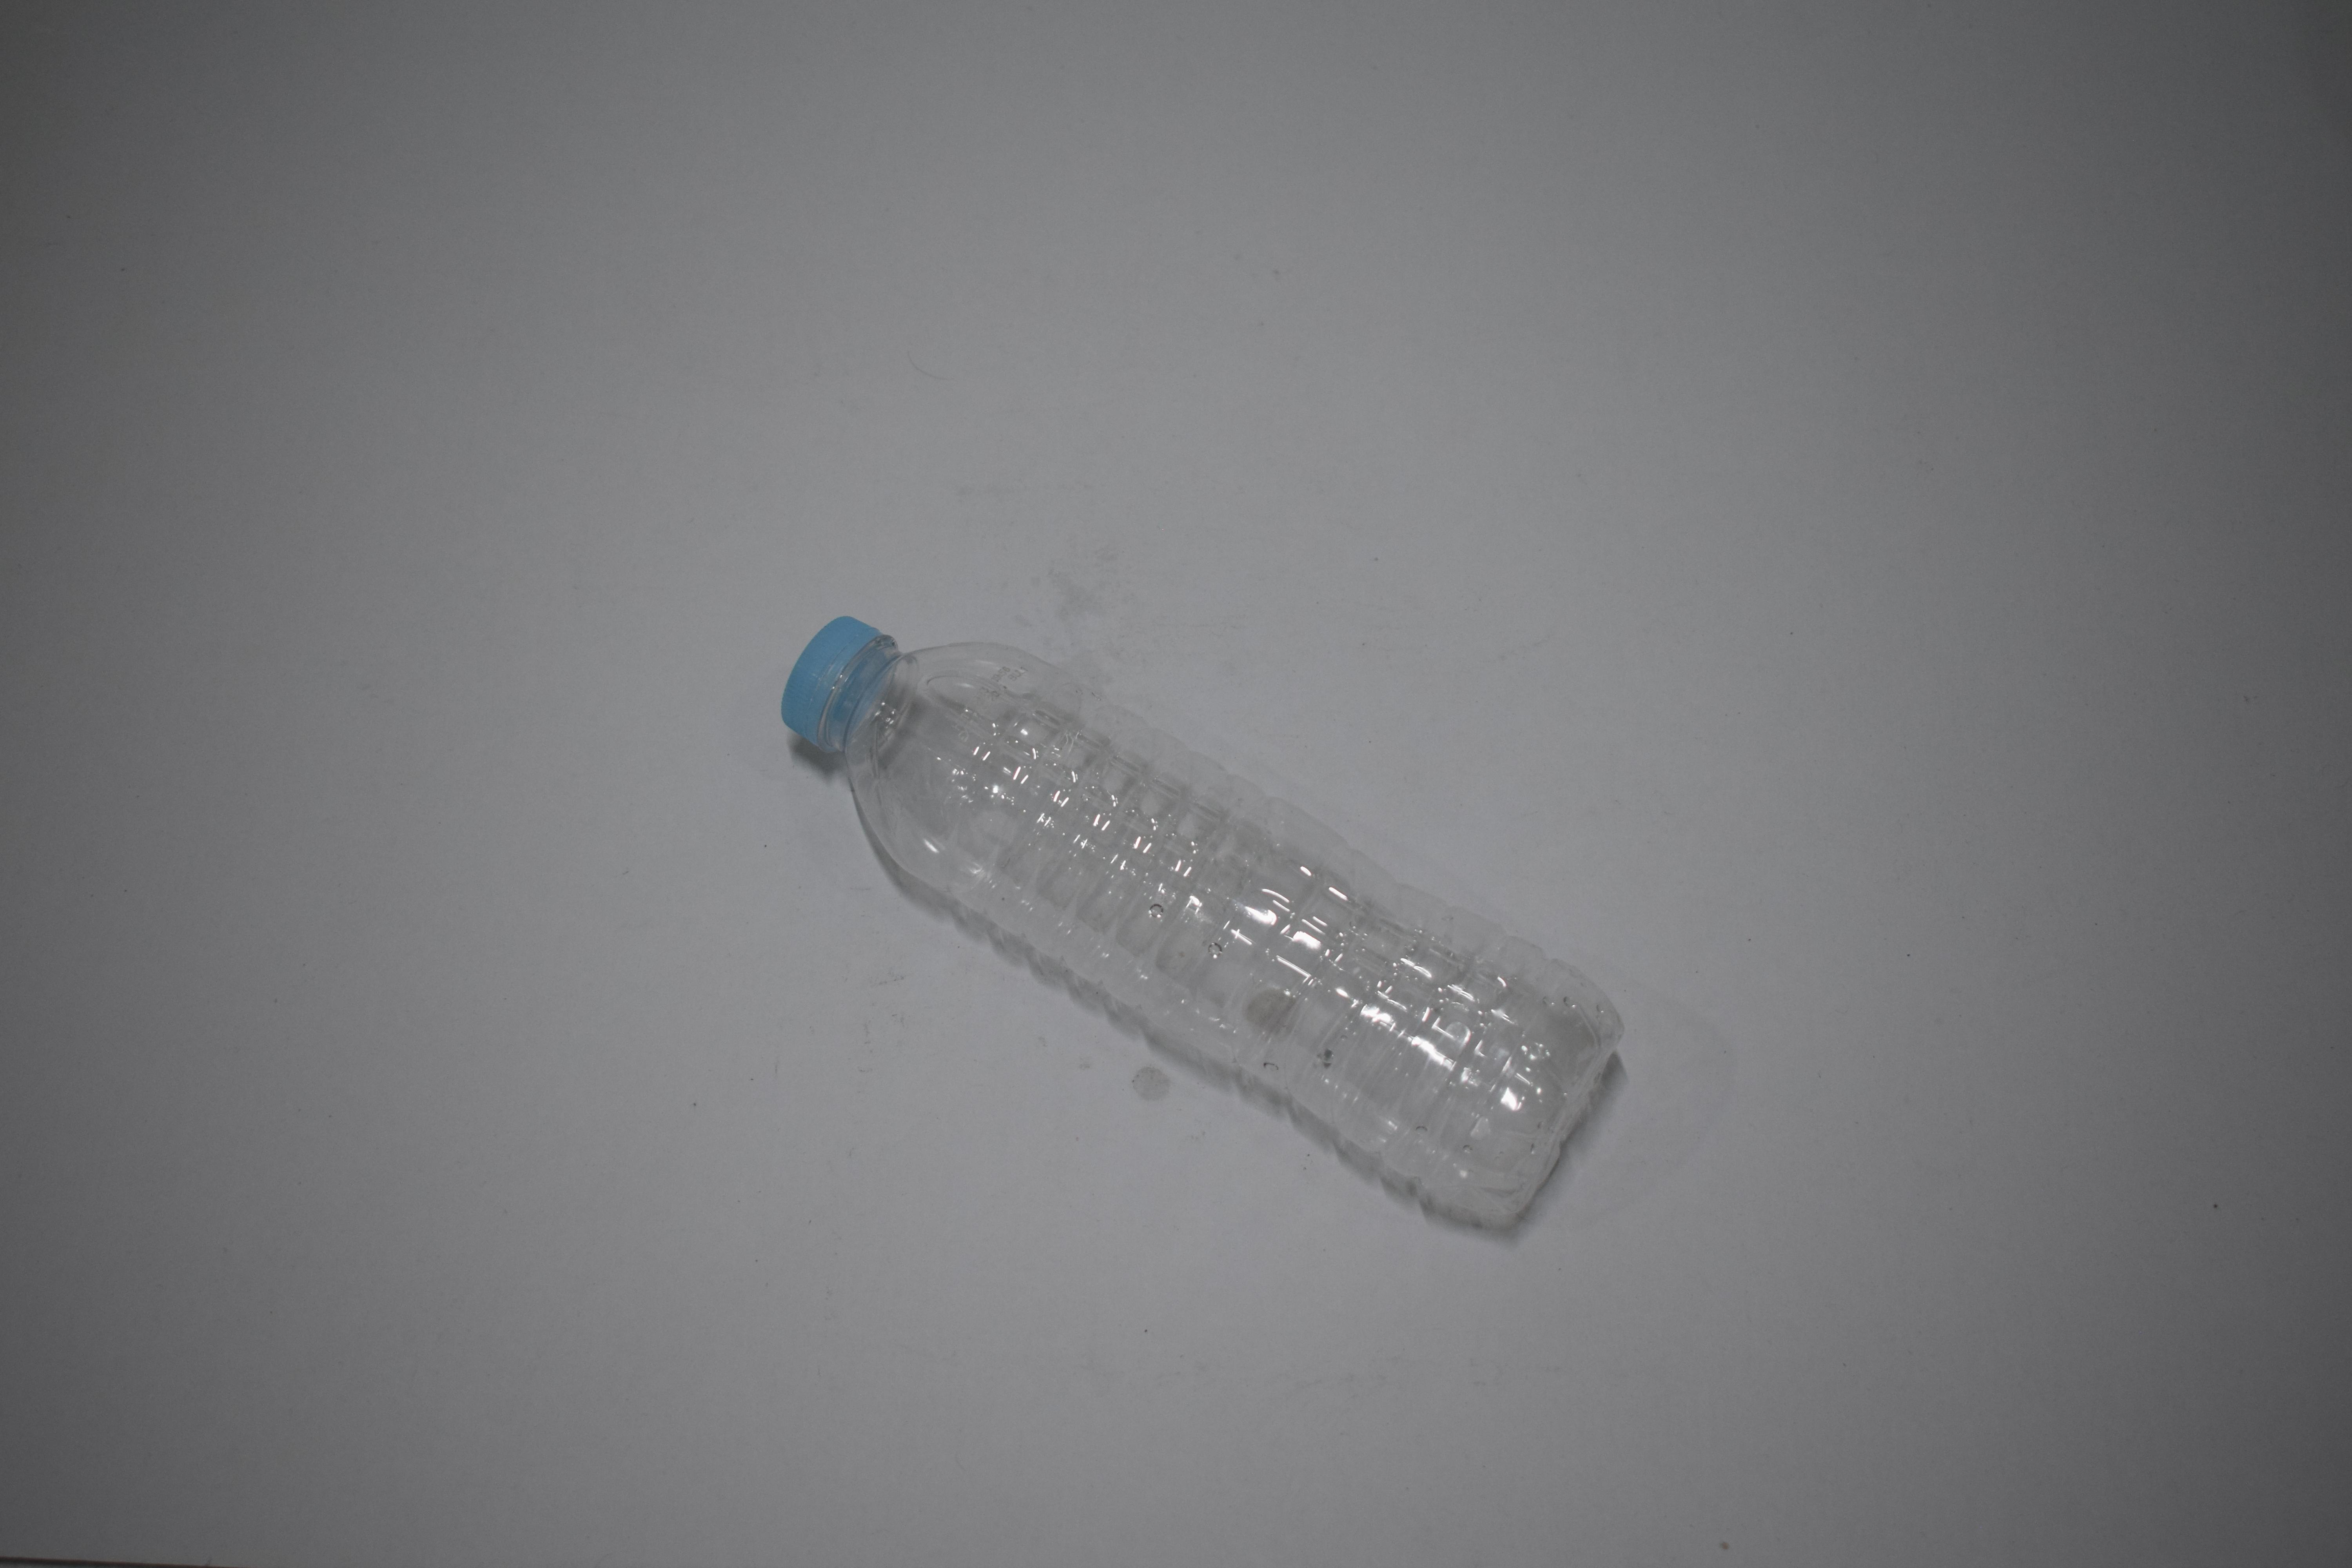bottle: (0, 0, 451, 462)
